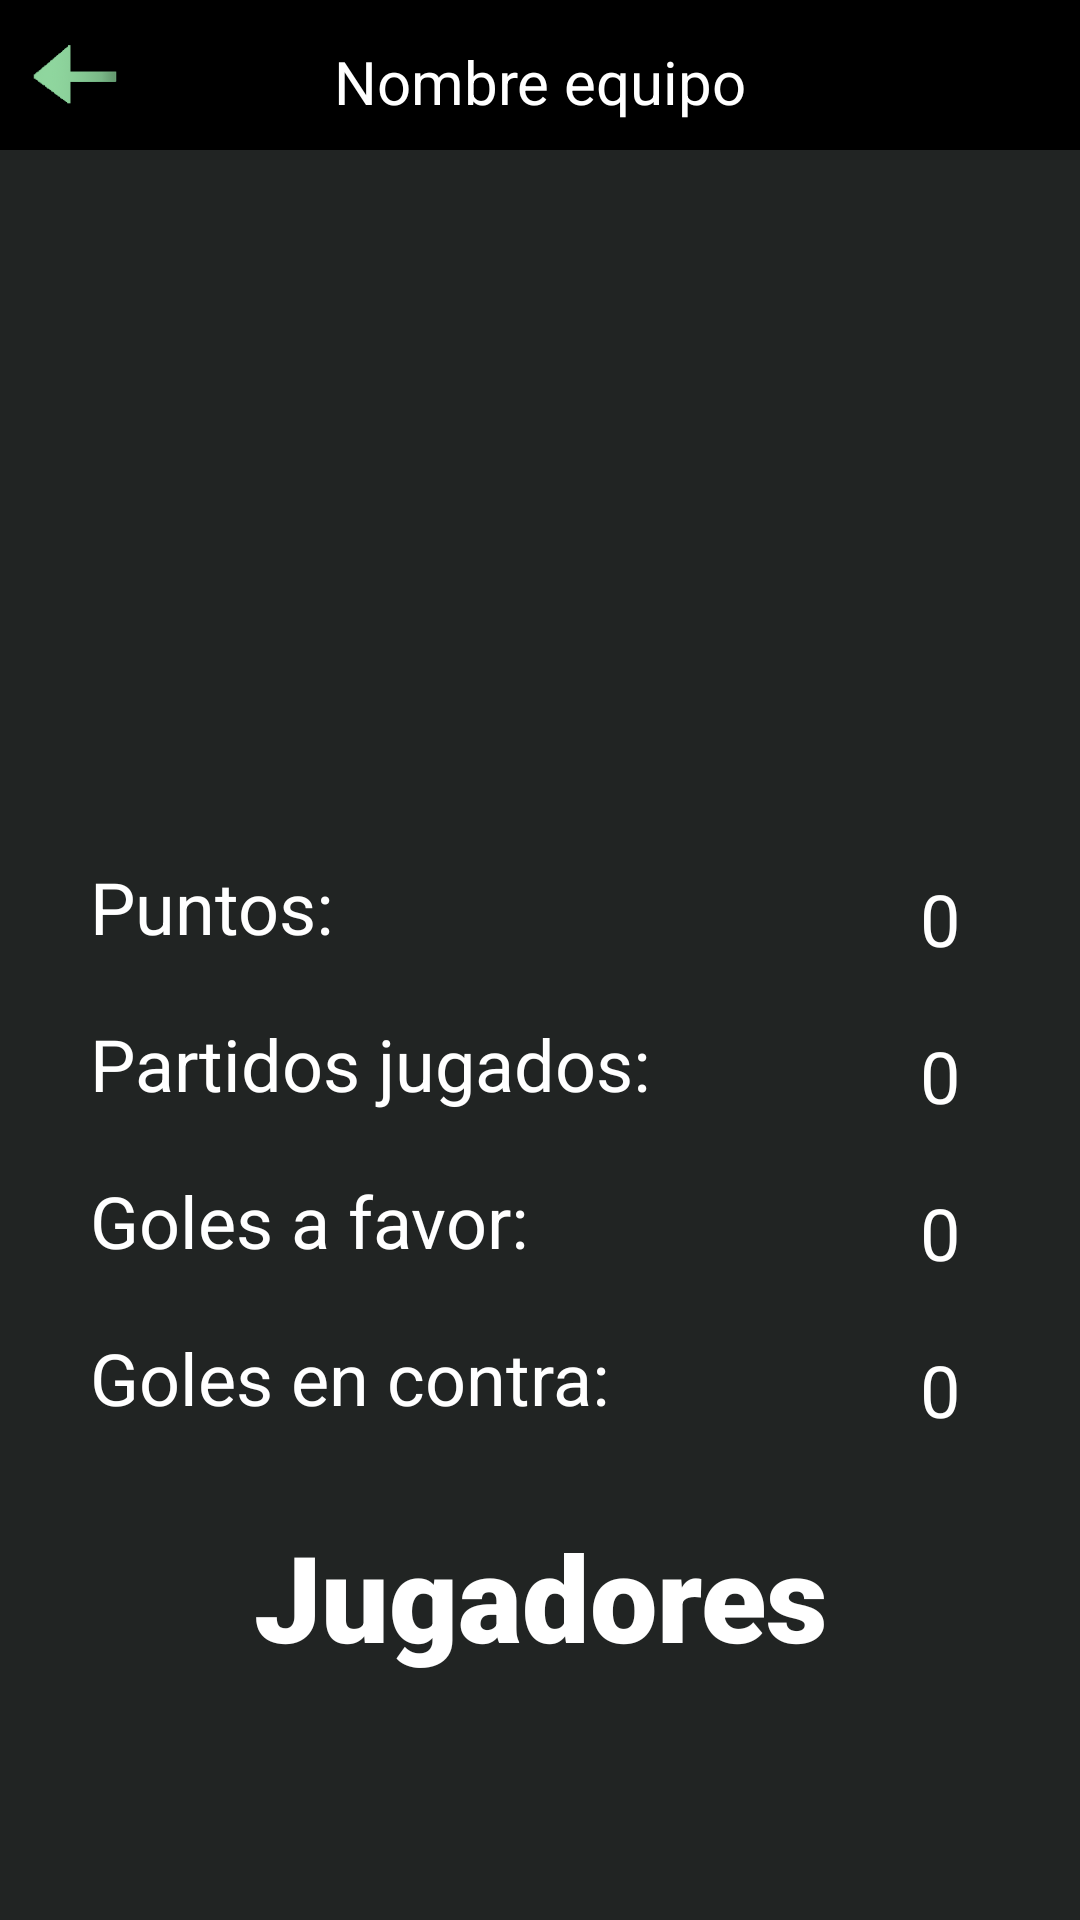

Named icons in this screenshot (1080×1920) and their centers, (x,y):
flechita volver: (75,74)
